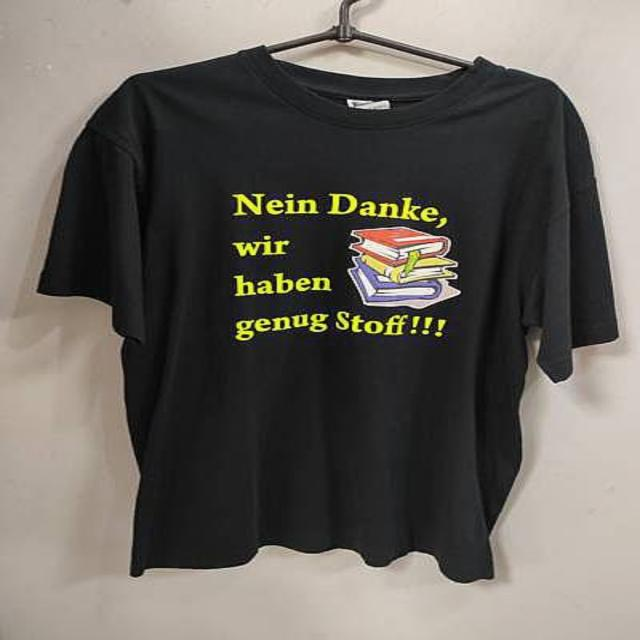T_SHIRT: (29, 42, 628, 586)
